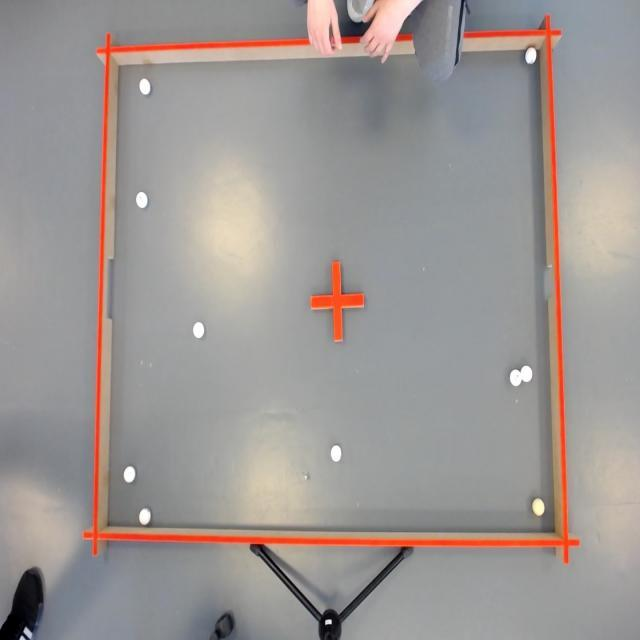white: (122, 462, 140, 484), (134, 190, 152, 212), (530, 494, 546, 518), (190, 319, 207, 340), (138, 506, 154, 528), (524, 46, 540, 68), (138, 78, 154, 99), (520, 362, 534, 386), (329, 443, 344, 465), (508, 368, 522, 389)
